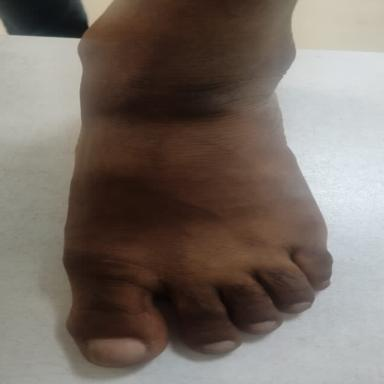normal skin: (64, 0, 331, 366)
